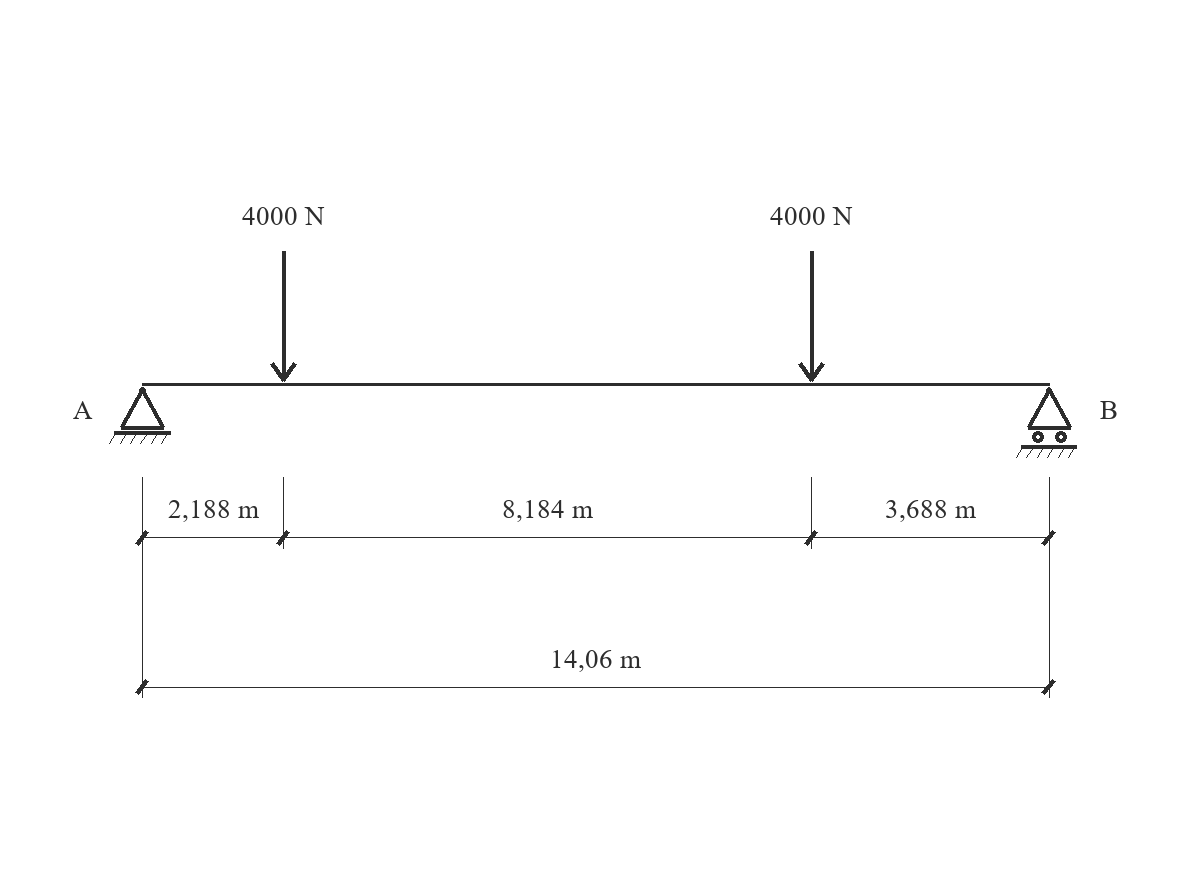pin_support: (109, 387, 171, 444)
point_load: (270, 251, 297, 382), (798, 251, 825, 382)
roller_support: (1016, 387, 1077, 458)
